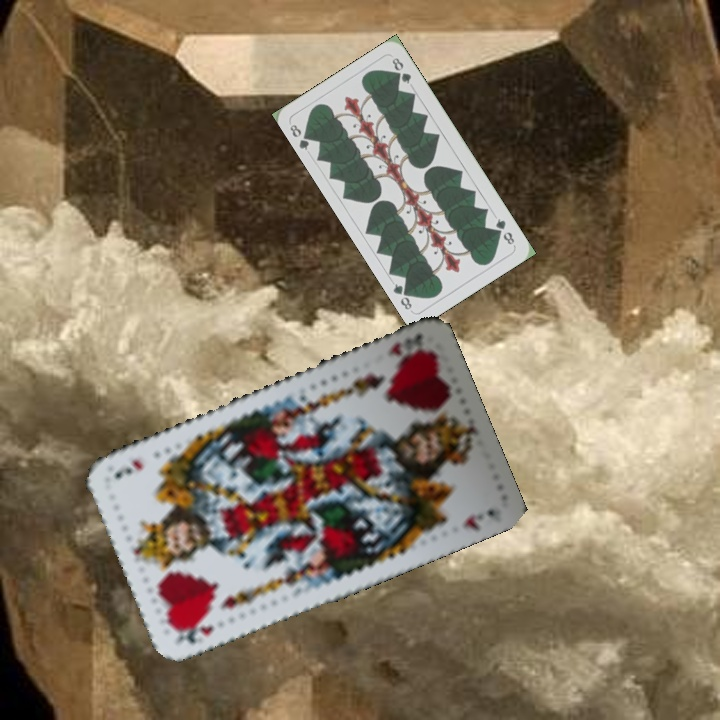G8: (286, 120, 315, 153), (491, 214, 517, 247)
HK: (383, 329, 431, 366), (173, 620, 216, 647)
